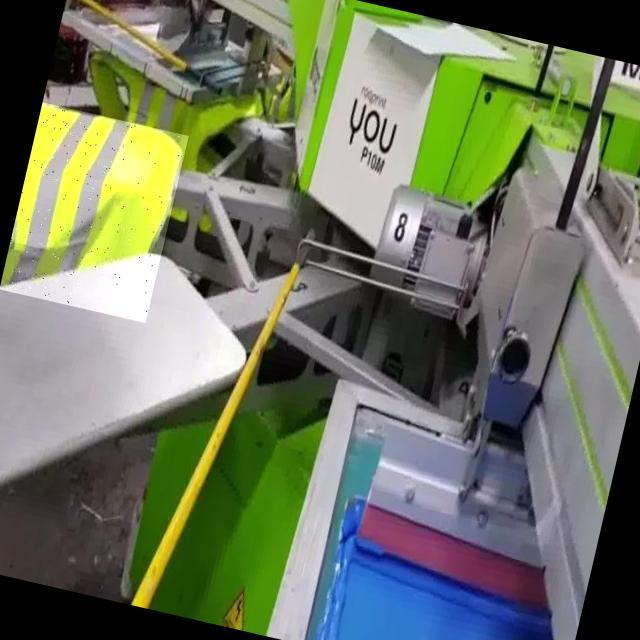Safety Vest: (0, 102, 188, 323)
